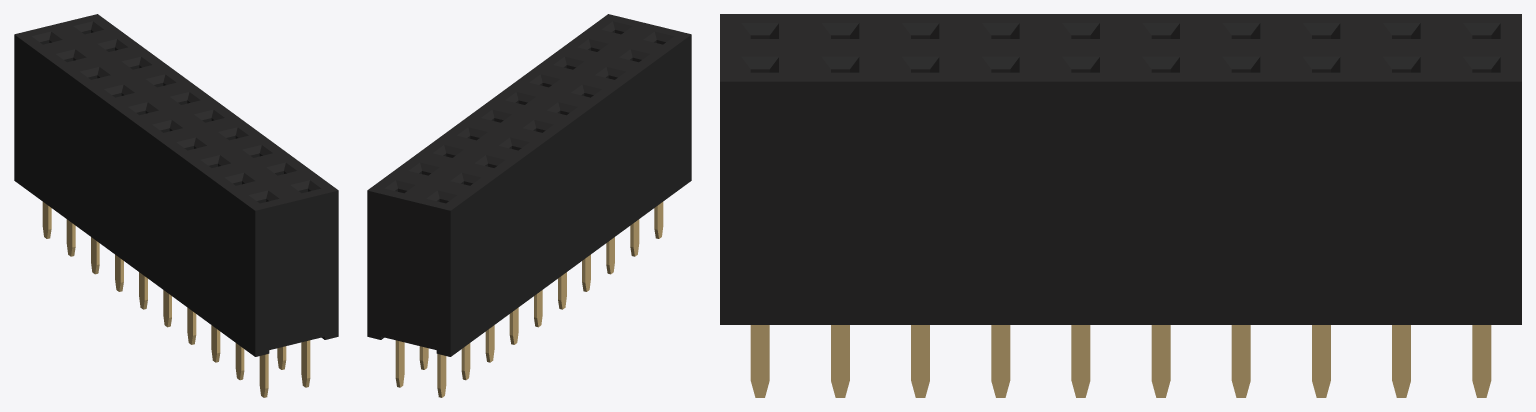
Rendered from kc-pinsocket_2x10_p2.54mm_vertical.glb.
3 views of the same model, side by side, from view 1: azimuth 30°, elevation 25°; view 2: azimuth 150°, elevation 25°; view 3: azimuth 270°, elevation 25° (orthographic). The views are drawn at different scales.
Visible parts, largest first — view 1: 0_0_0_0, 0.75_0.5_0.25_0.9; view 2: 0_0_0_0, 0.75_0.5_0.25_0.9; view 3: 0_0_0_0, 0.75_0.5_0.25_0.9.
Boxes of the visible parts, <box> form: 0_0_0_0: <box>14,14,338,356</box>; 0.75_0.5_0.25_0.9: <box>42,202,310,397</box>; 0_0_0_0: <box>367,14,691,356</box>; 0.75_0.5_0.25_0.9: <box>395,202,663,397</box>; 0_0_0_0: <box>720,14,1521,324</box>; 0.75_0.5_0.25_0.9: <box>750,325,1491,397</box>.
Size of the model in its own units: 0.5079 by 1.16 by 2.54.
